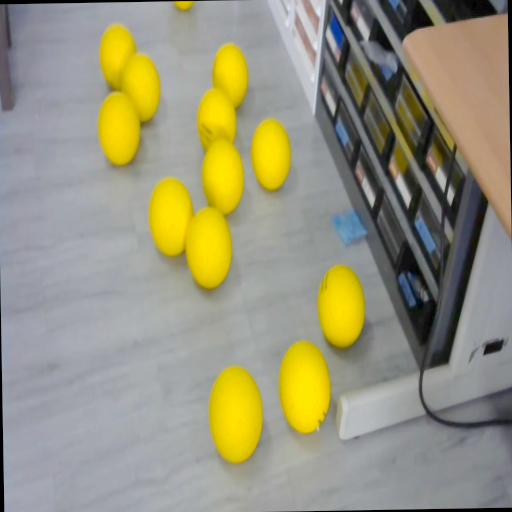FUEL: (207, 364, 264, 462), (276, 338, 332, 434), (184, 204, 234, 289), (317, 263, 366, 348), (147, 175, 195, 258), (200, 139, 244, 215), (98, 91, 142, 166), (250, 117, 292, 190), (98, 22, 136, 90), (212, 42, 250, 108)
